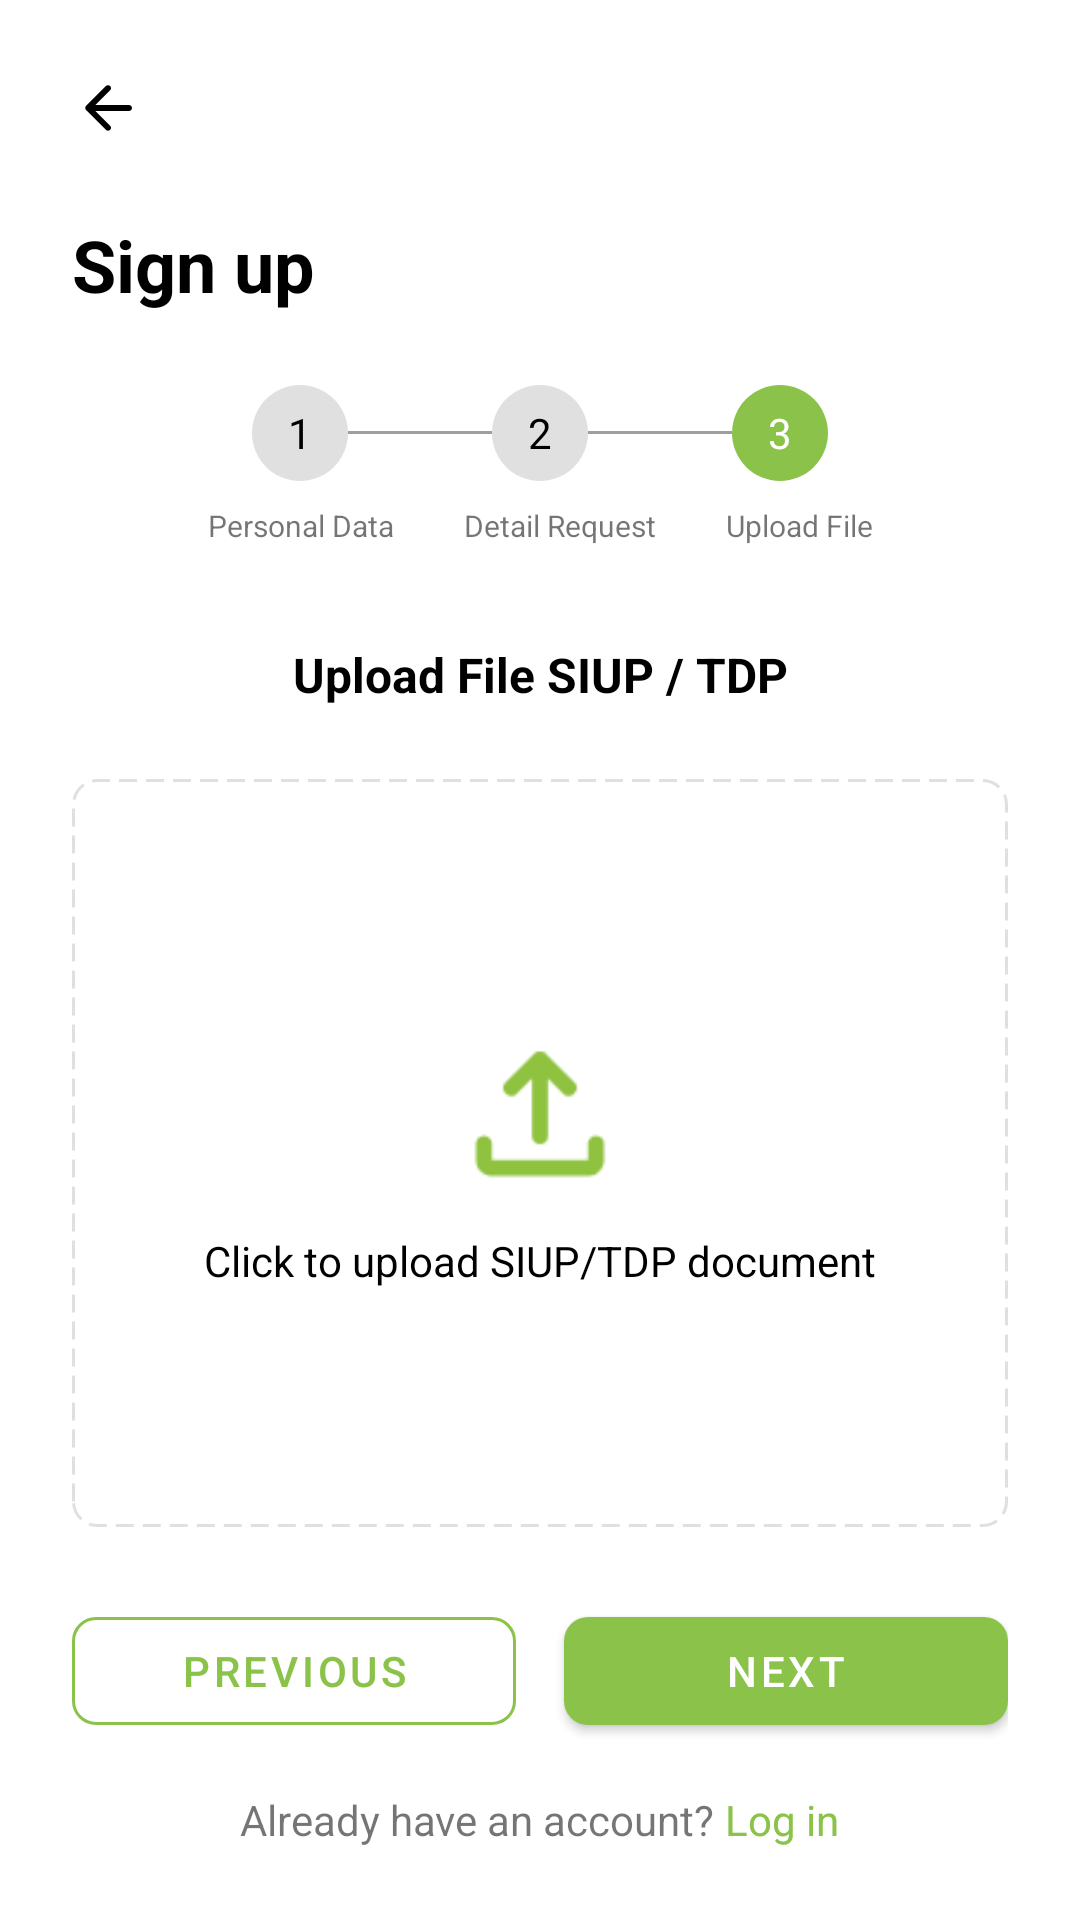

Locate icon controls on the screen. Image size 1080px×1920px, boxes as (x1, y1, x2, y2).
Back button: (85, 85, 132, 131)
